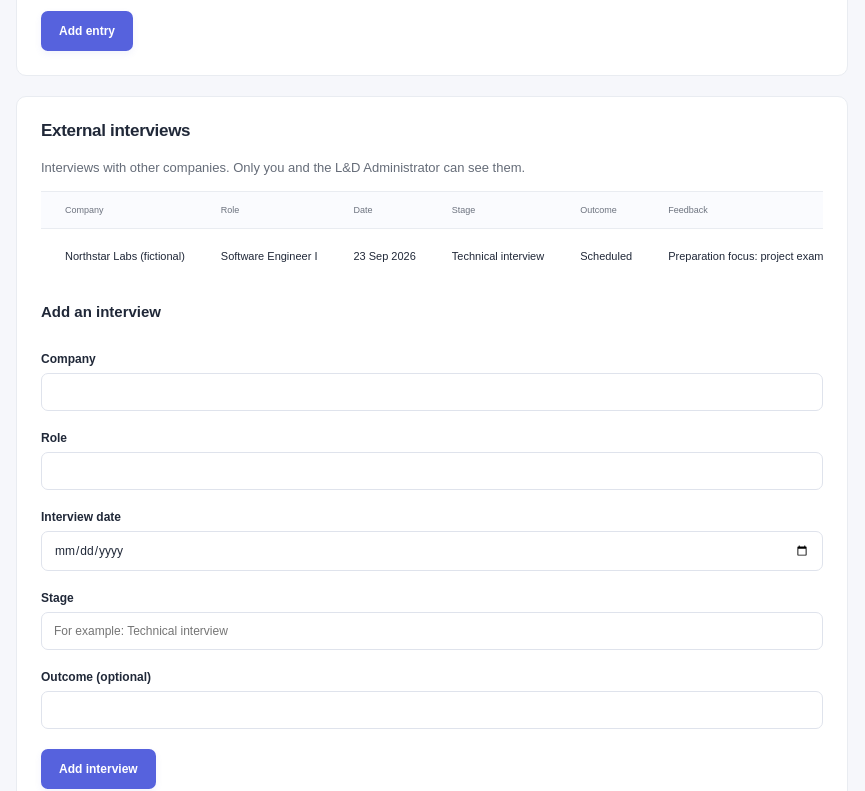
Test: StaffAttendance external interviews › shows the action's error as an alert
(page scrolled)
In the field labelled "Company": (432, 392) 41,373 -> 823,411, type "Orbit"
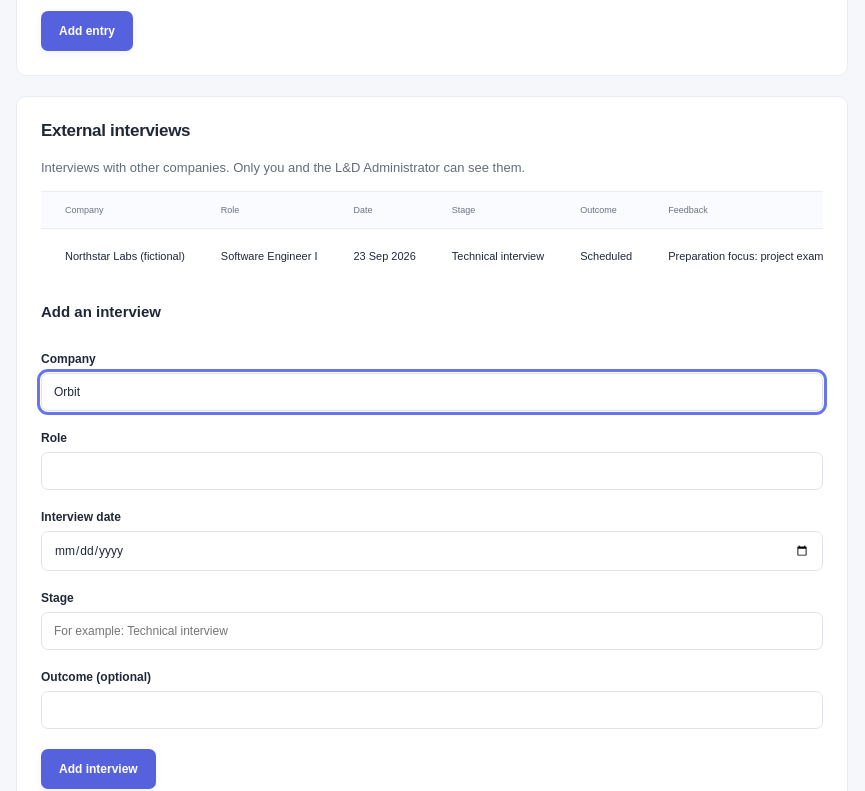
In the field labelled "Role": (432, 471) 41,452 -> 823,490, type "AI Engineer"
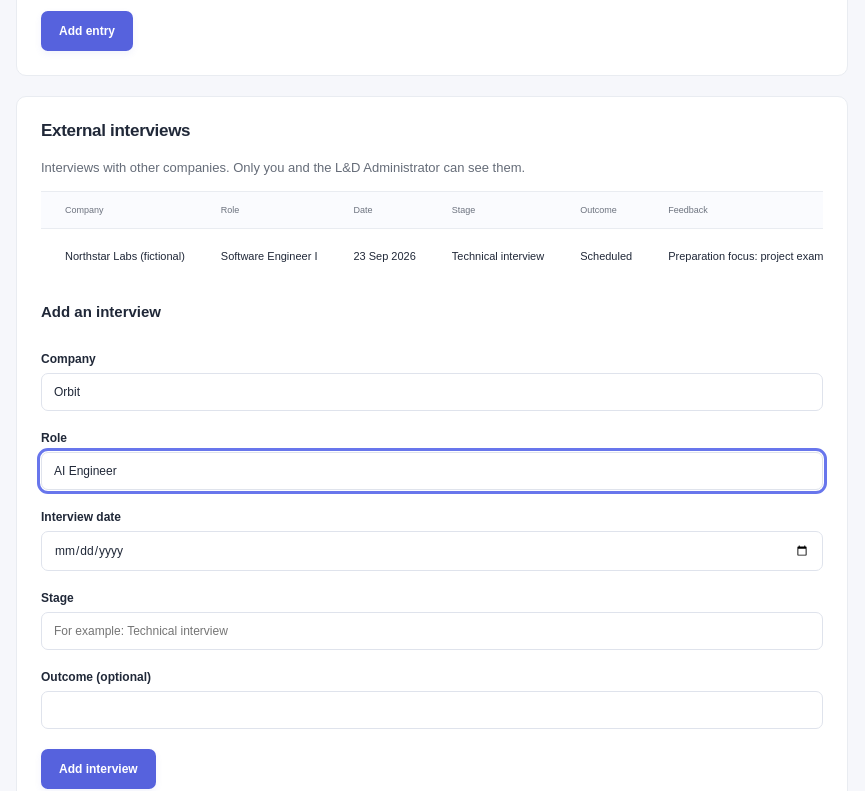
In the date field labelled "Interview date": (432, 551) 41,531 -> 823,571, type "2026-10-20"
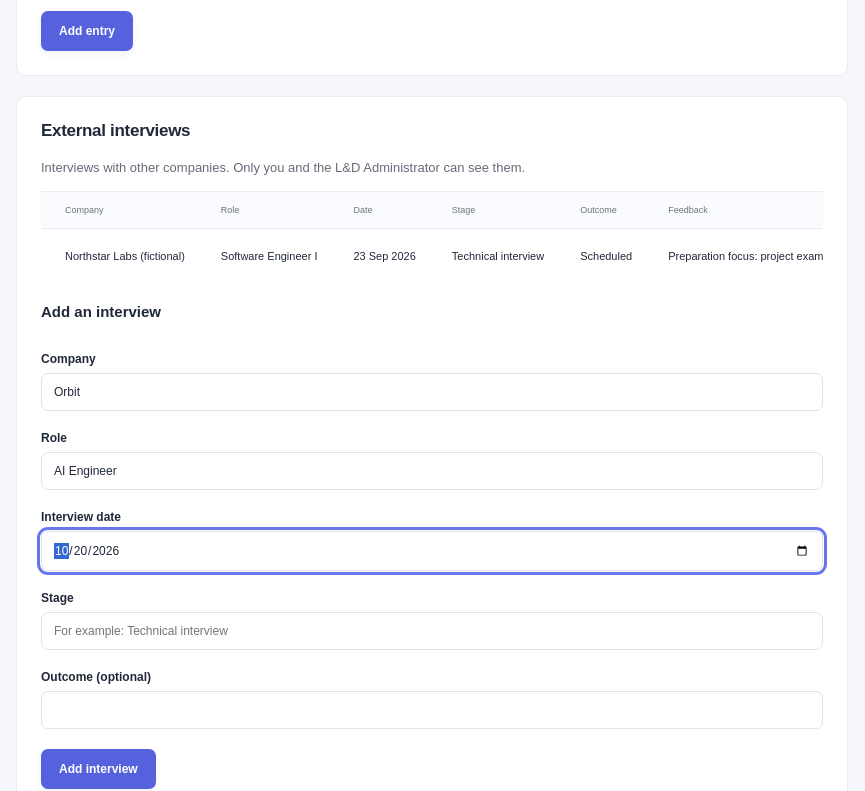
In the field labelled "Stage": (432, 631) 41,612 -> 823,650, type "Screen"
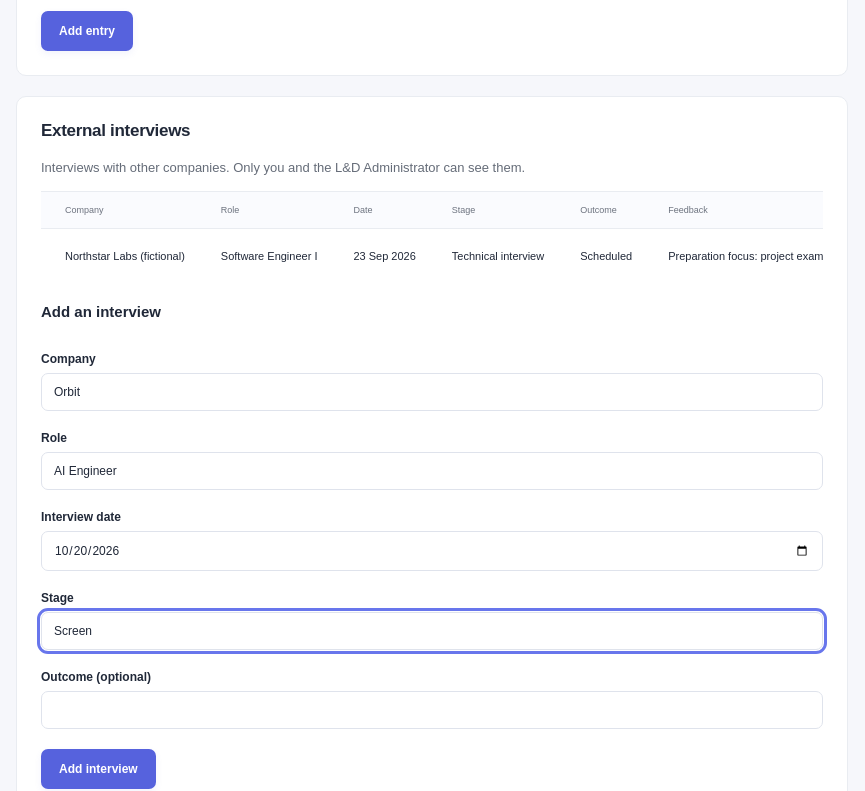
Click the button "Add interview": (98, 769) 41,749 -> 156,789
(page scrolled)
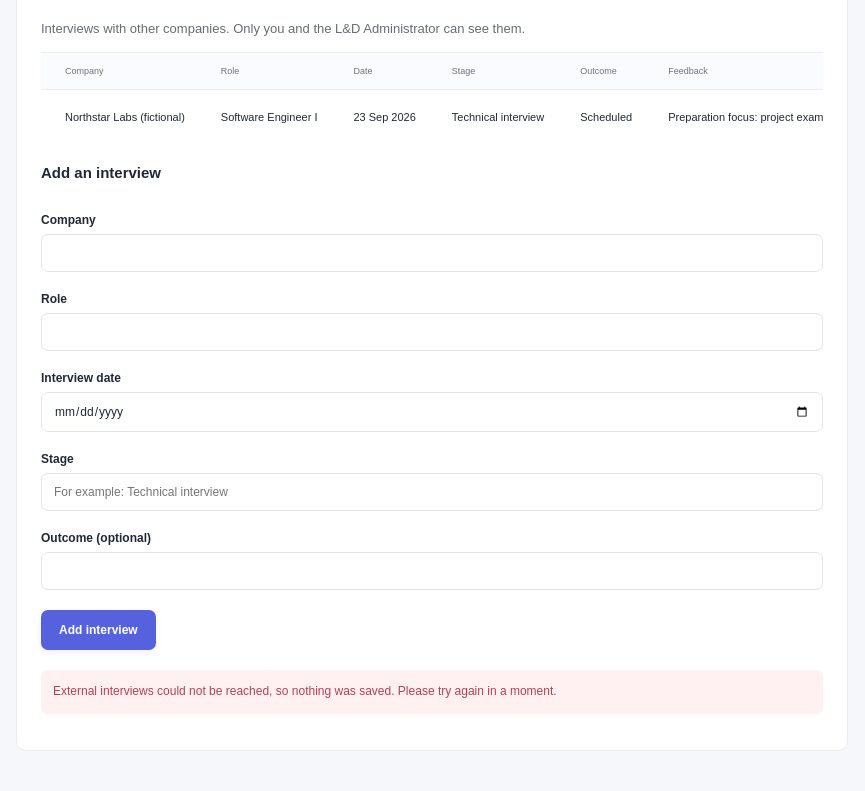
Now the message shows "nothing was saved", box 53,684 -> 557,698
